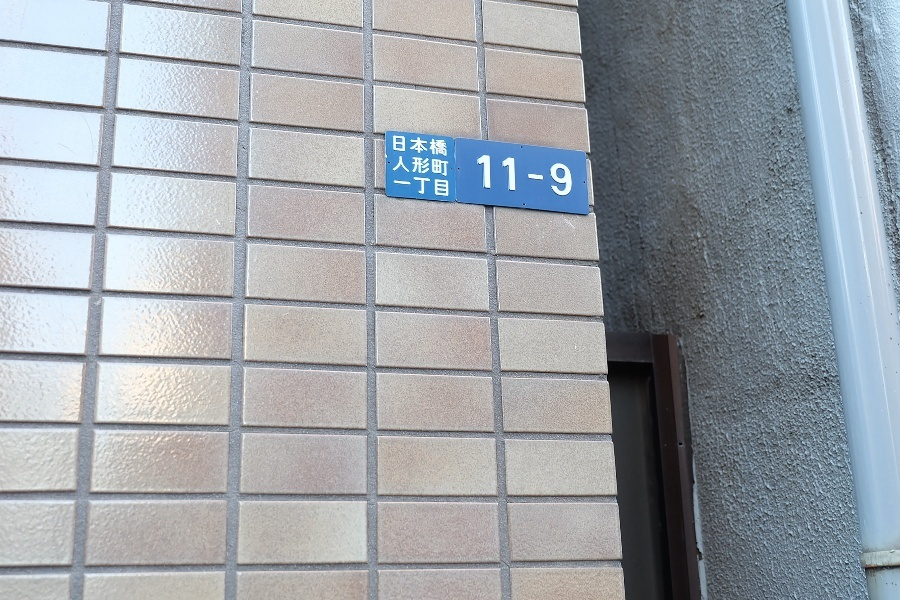text: (481, 154, 496, 198), (497, 154, 512, 198), (513, 154, 528, 198), (529, 154, 544, 198), (545, 154, 560, 198), (561, 154, 573, 198), (433, 155, 449, 177), (433, 175, 449, 197), (401, 135, 416, 157), (417, 135, 432, 157), (401, 155, 416, 177), (417, 155, 432, 177), (401, 175, 416, 197), (417, 175, 432, 197), (433, 135, 447, 157), (393, 135, 400, 157), (394, 155, 400, 177), (394, 175, 400, 197), (477, 154, 480, 198)
